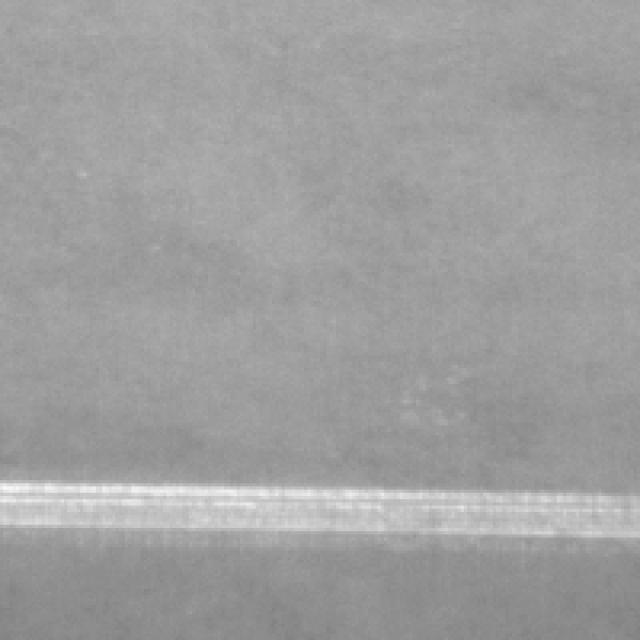scratches: (0, 481, 640, 546)
